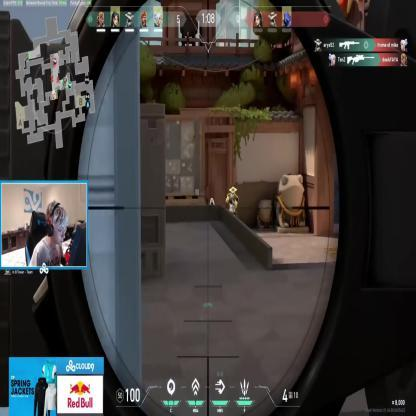enemy: (225, 185, 239, 242)
enemy_head: (229, 186, 237, 197)
